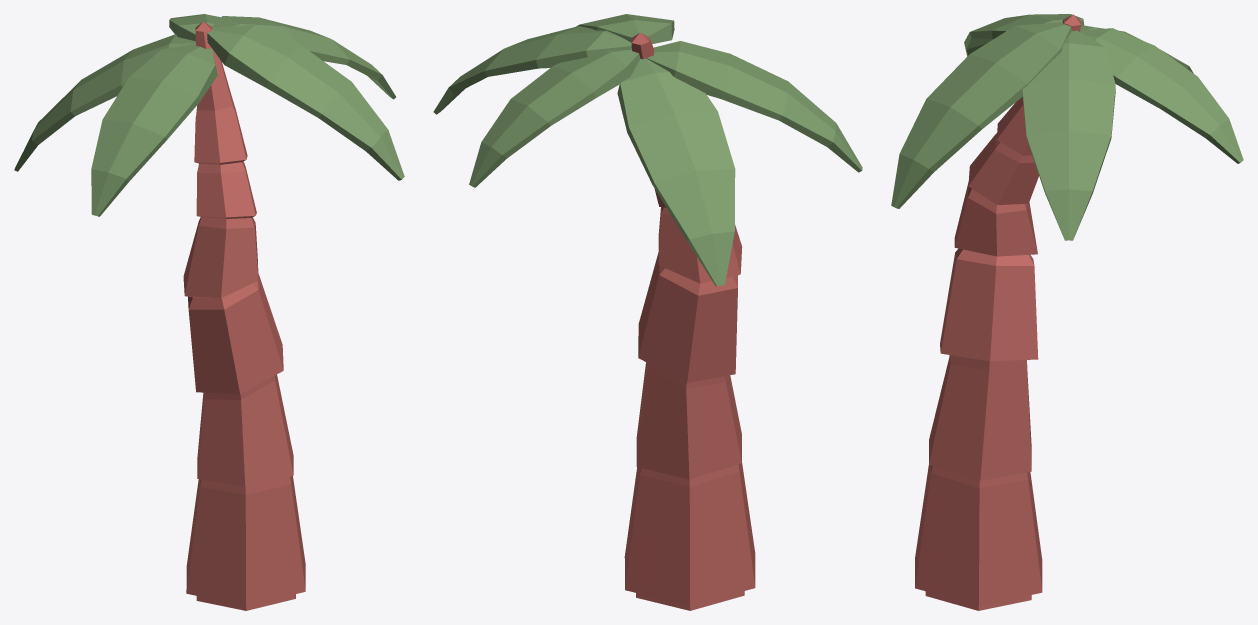
The model's file is Desert_PalmTree.fbx.
The picture shows the model from 3 angles, left to right: view 1: azimuth 30°, elevation 25°; view 2: azimuth 150°, elevation 25°; view 3: azimuth 270°, elevation 25°; orthographic projection. The views are drawn at different scales.
Parts seen in each view (by area): view 1: Desert_PalmTree; view 2: Desert_PalmTree; view 3: Desert_PalmTree.
Boxes of the visible parts, box(x1,y1,x2,y2) form: Desert_PalmTree: box(14, 14, 404, 610); Desert_PalmTree: box(433, 14, 862, 610); Desert_PalmTree: box(891, 14, 1243, 610).
Bounding box in the file's own units: 194 × 160 × 287.
